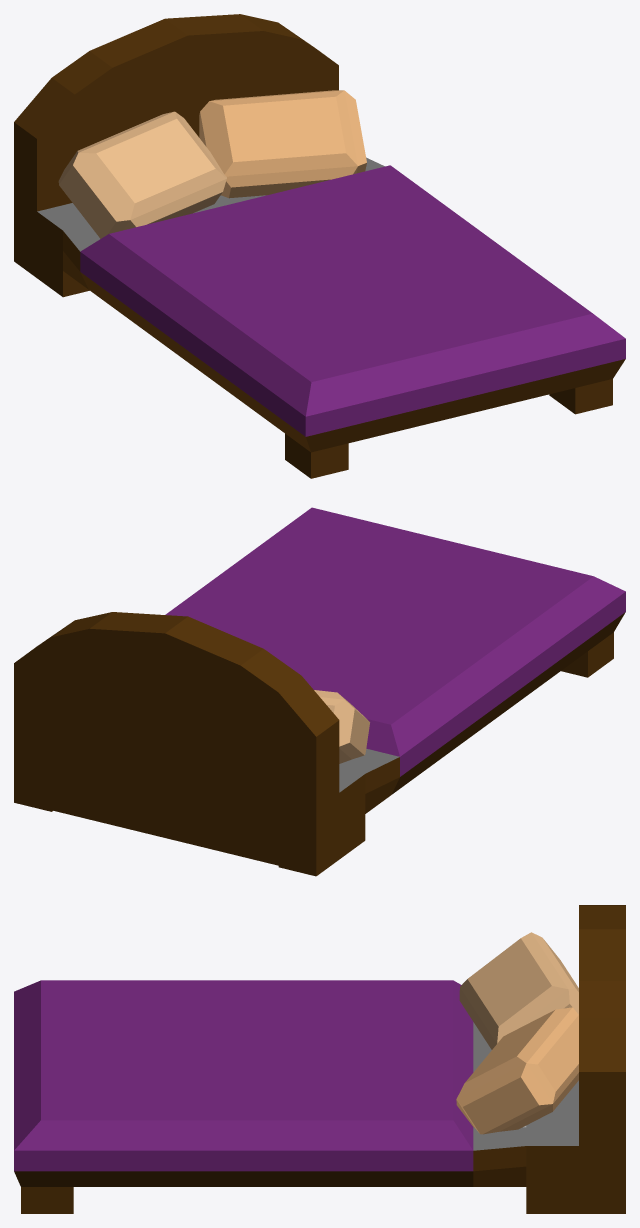
File: bed.fbx
3 renders of one model, top to bottom at view 1: azimuth 30°, elevation 25°; view 2: azimuth 150°, elevation 25°; view 3: azimuth 270°, elevation 25°, orthographic.
Visible parts, largest first — view 1: Cube; view 2: Cube; view 3: Cube.
Part boxes in pixels (x1,y1,x2,y2): Cube: [14, 14, 625, 478]; Cube: [14, 507, 625, 876]; Cube: [14, 905, 625, 1213].
Size of the model in its own units: 435 by 268 by 708.
